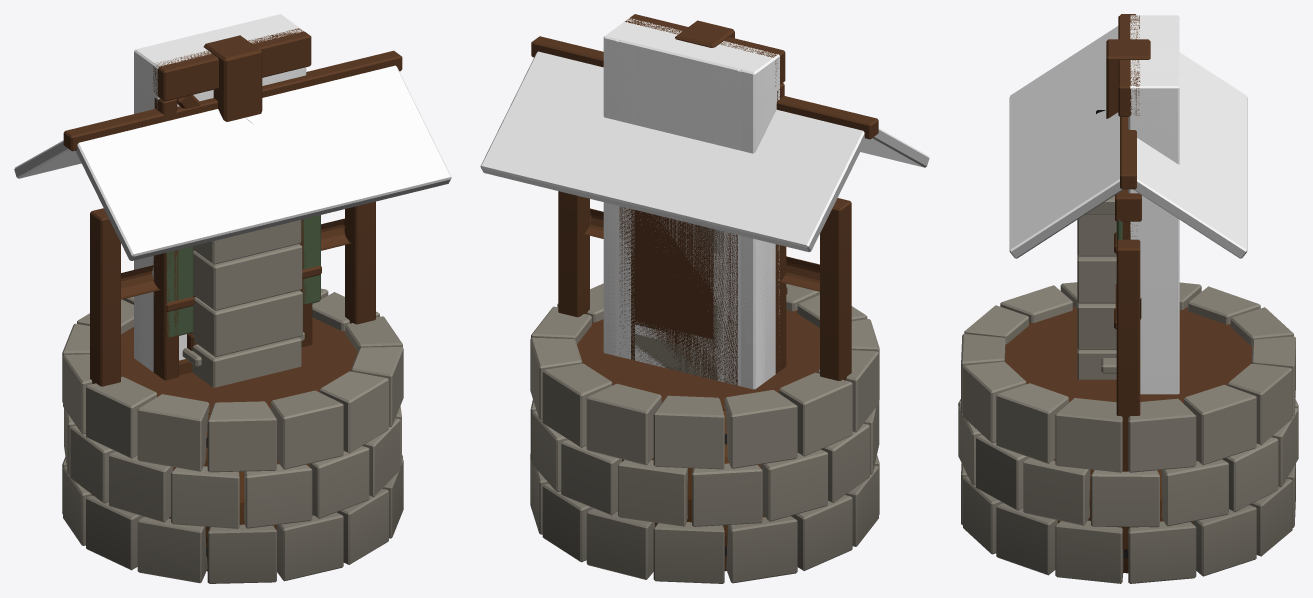
The model's file is v2_village_kit.glb.
3 views of the same model, side by side, from view 1: azimuth 30°, elevation 25°; view 2: azimuth 150°, elevation 25°; view 3: azimuth 270°, elevation 25° (orthographic). The views are drawn at different scales.
Visible parts, largest first — view 1: kit_well, kit_chimney, kit_bay_brace, kit_bay_door, kit_barrel, kit_bay_window, kit_corner; view 2: kit_well, kit_bay_window, kit_bay_door, kit_bay_brace, kit_barrel, kit_chimney, kit_corner; view 3: kit_well, kit_bay_brace, kit_barrel, kit_chimney, kit_bay_door, kit_bay_window, kit_corner.
Boxes of the visible parts, left/top/right/bottom form: kit_well: left=14, top=50, right=451, bottom=583; kit_chimney: left=191, top=220, right=302, bottom=387; kit_bay_brace: left=134, top=14, right=309, bottom=375; kit_bay_door: left=134, top=14, right=312, bottom=380; kit_barrel: left=121, top=317, right=357, bottom=571; kit_bay_window: left=134, top=17, right=321, bottom=374; kit_corner: left=203, top=35, right=262, bottom=121; kit_well: left=480, top=36, right=929, bottom=583; kit_bay_window: left=604, top=15, right=787, bottom=388; kit_bay_door: left=603, top=14, right=786, bottom=389; kit_bay_brace: left=604, top=14, right=784, bottom=386; kit_barrel: left=577, top=310, right=819, bottom=571; kit_chimney: left=635, top=224, right=723, bottom=380; kit_corner: left=675, top=20, right=734, bottom=47; kit_well: left=958, top=14, right=1298, bottom=583; kit_bay_brace: left=1120, top=15, right=1177, bottom=394; kit_barrel: left=1005, top=306, right=1252, bottom=573; kit_chimney: left=1077, top=195, right=1116, bottom=379; kit_bay_door: left=1115, top=15, right=1179, bottom=394; kit_bay_window: left=1101, top=15, right=1179, bottom=393; kit_corner: left=1106, top=39, right=1150, bottom=118.
Size of the model in its own units: 2.24 by 3.06 by 2.
